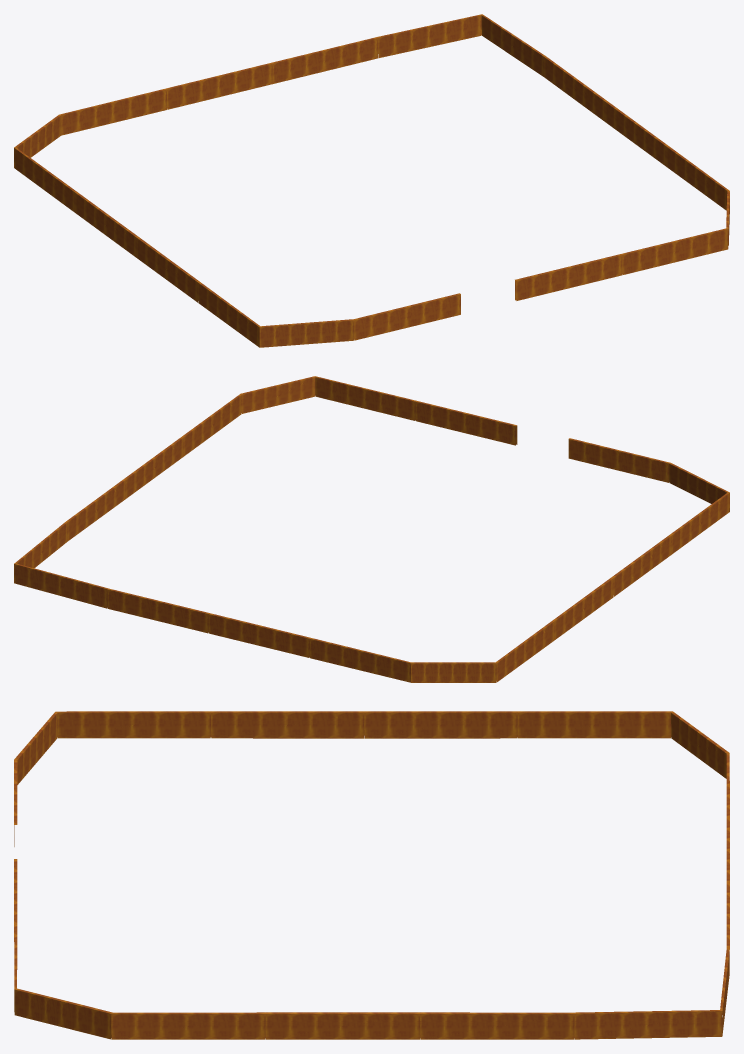
File: gongon_massfence.fbx
The picture shows the model from 3 angles, top to bottom: view 1: azimuth 30°, elevation 25°; view 2: azimuth 150°, elevation 25°; view 3: azimuth 270°, elevation 25°; orthographic projection. The views are drawn at different scales.
Visible parts, largest first — view 1: MassHouseFence; view 2: MassHouseFence; view 3: MassHouseFence.
Part boxes in pixels (left/top/right/bottom): MassHouseFence: left=14, top=14, right=729, bottom=347; MassHouseFence: left=14, top=376, right=729, bottom=682; MassHouseFence: left=14, top=711, right=729, bottom=1039.
Size of the model in its own units: 2440 by 97.06 by 2440.
